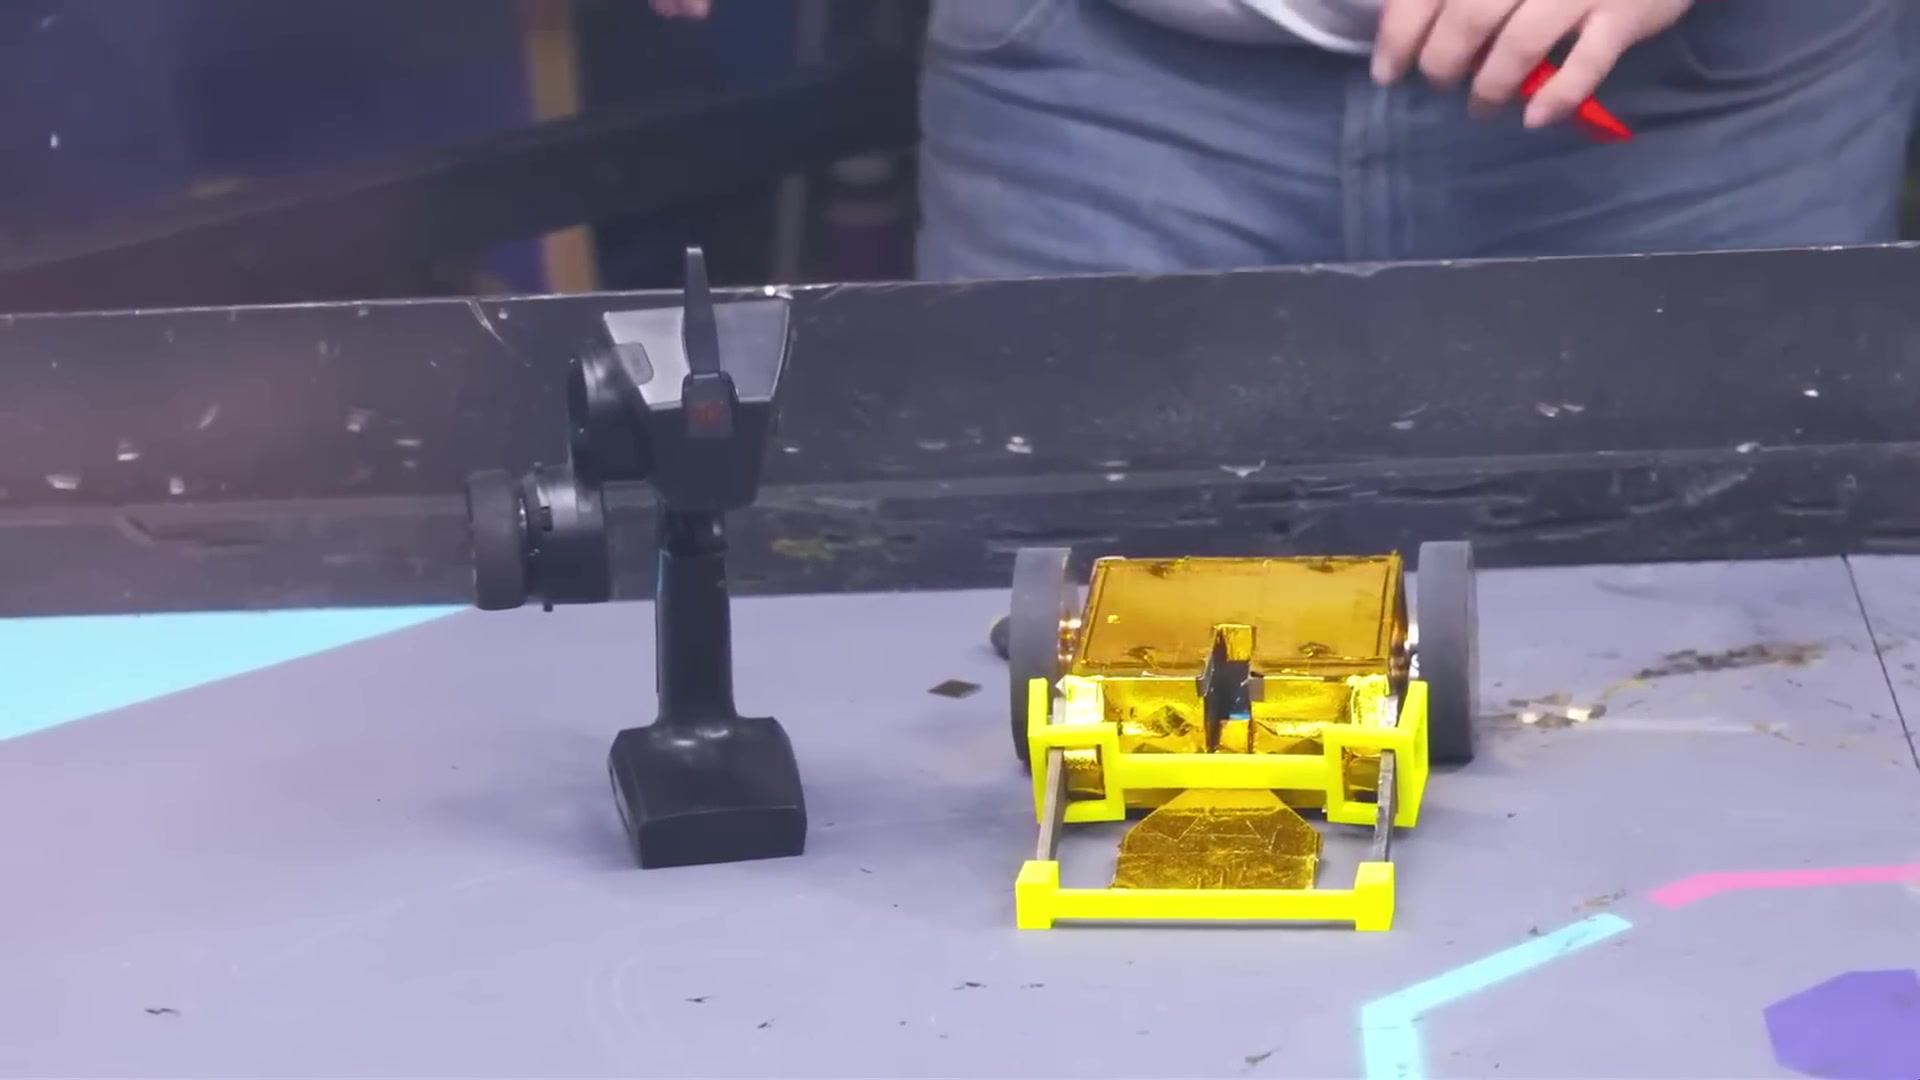combatbot: (1010, 542, 1478, 928)
